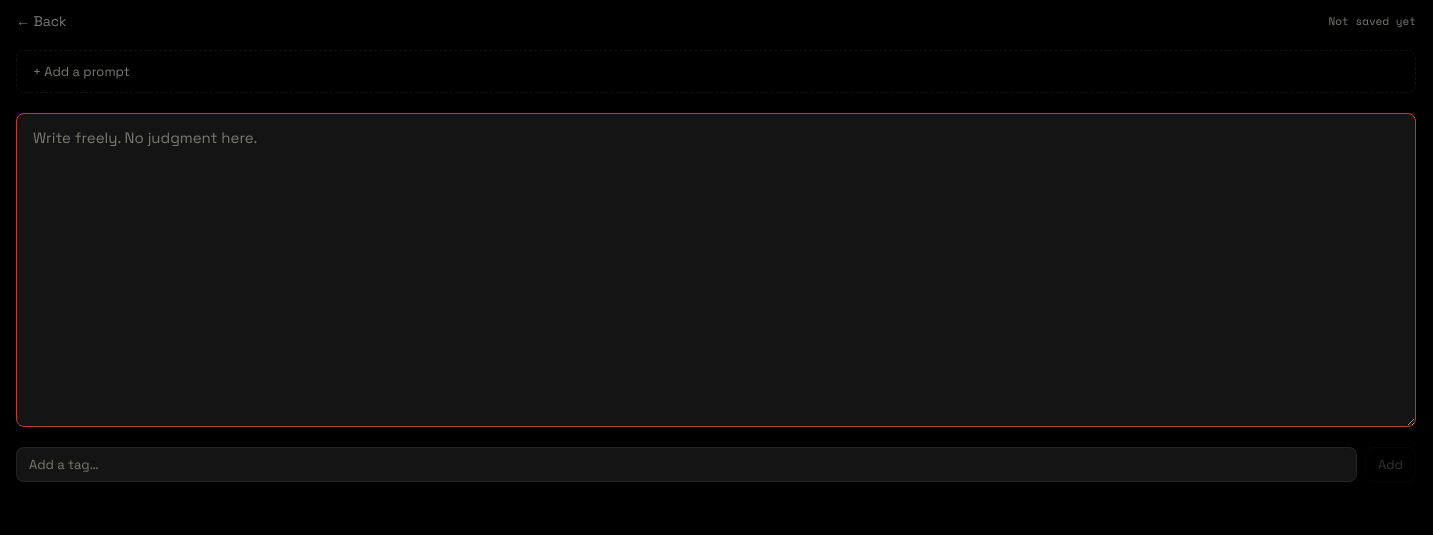
Test: JournalEntry — new entry mode › removes a tag when the × button is clicked
This screenshot has width=1433, height=535.
Type "fear" into the field named "tag input" at (687, 464), box [16, 447, 1357, 482]
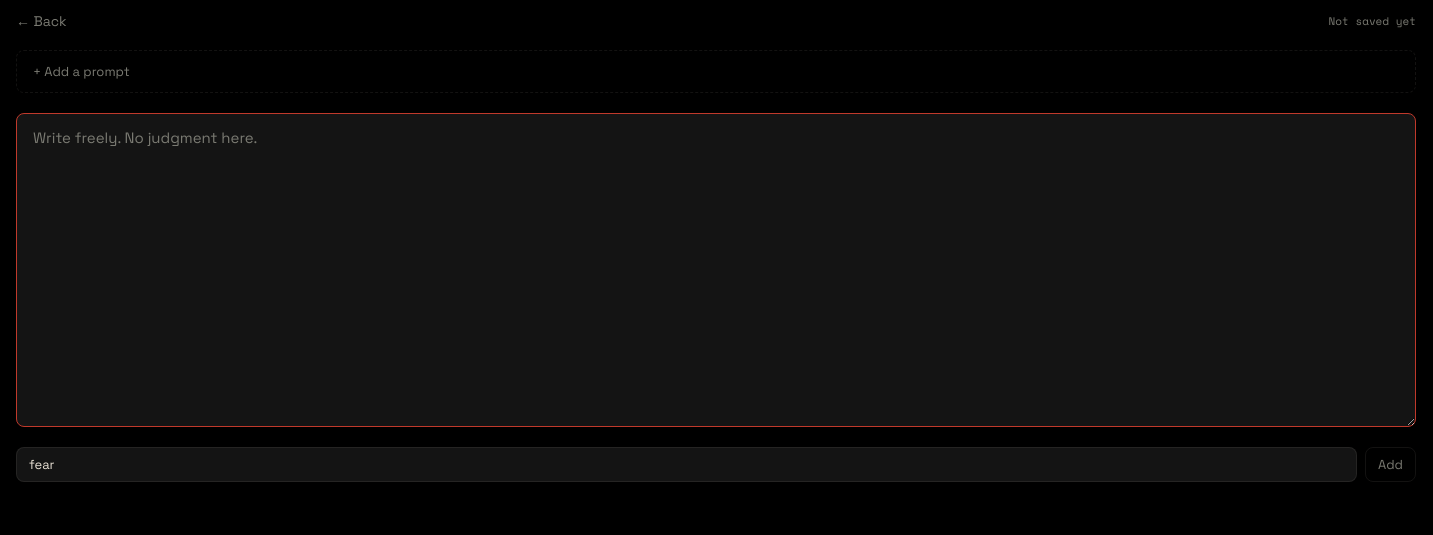
Click the button with aria-label "add tag" at (1391, 464), box [1365, 447, 1416, 482]
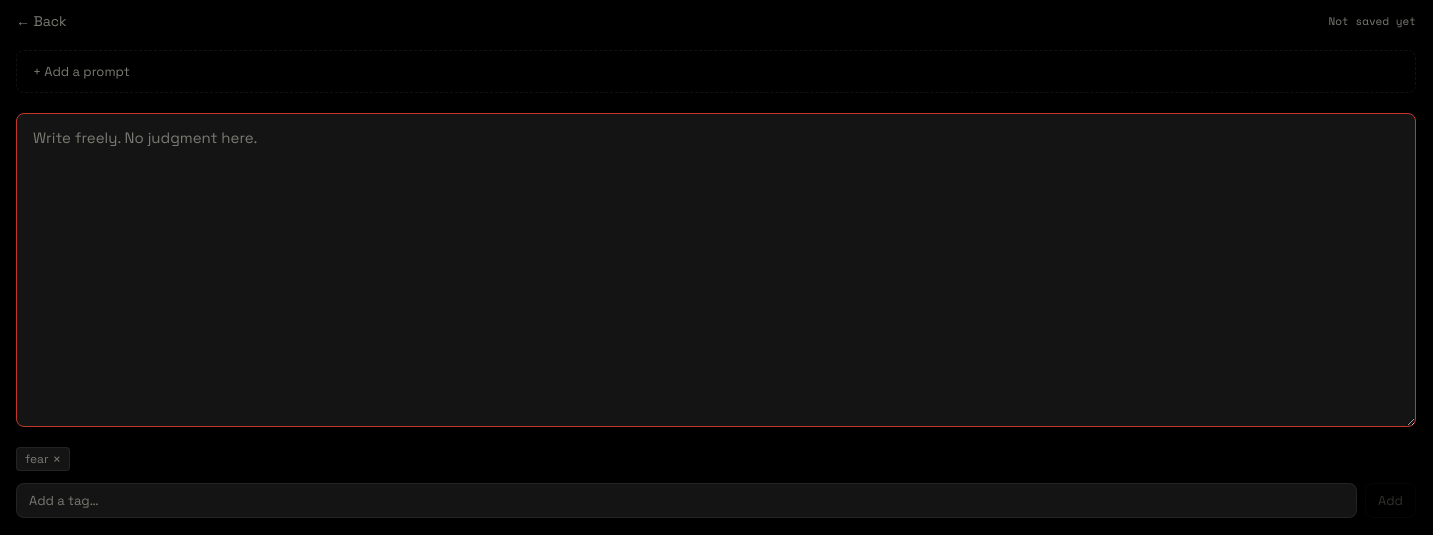
Check: the text "fear" is shown, box [25, 451, 48, 467]
Click the button named "remove tag fear" at (57, 459), box [52, 452, 61, 466]
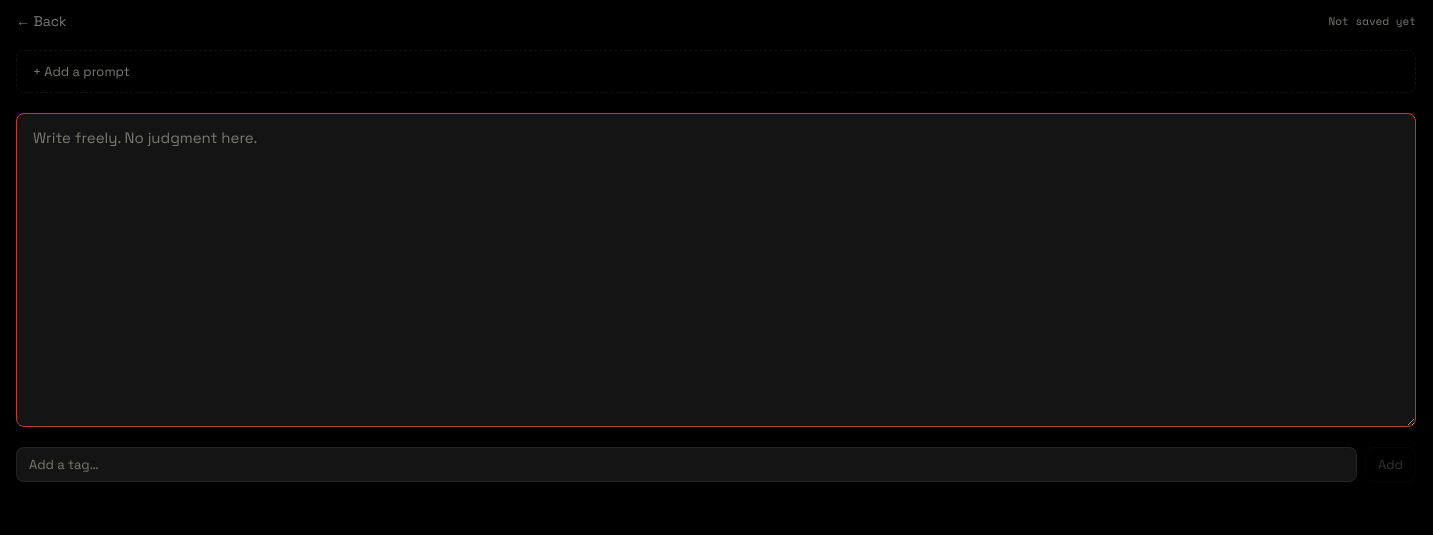
Check: the text "fear" is gone
